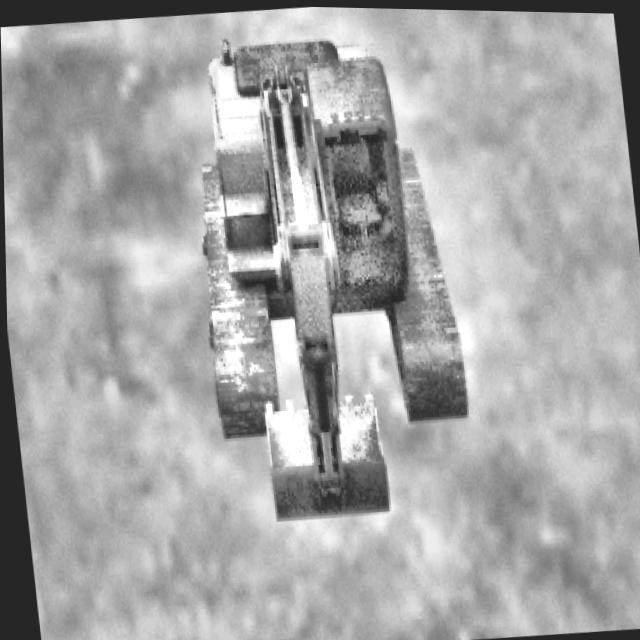excavator: (175, 16, 477, 527)
